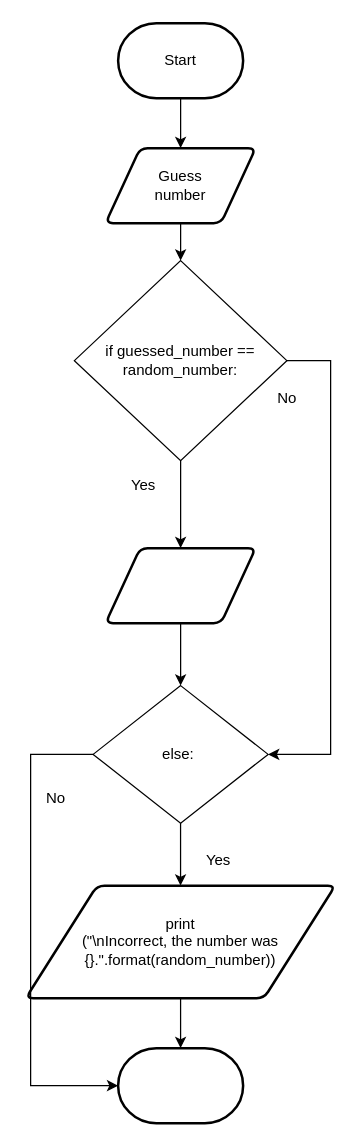
Some shapes in this 363 by 1145 pixel diagram are drawn without their labels. Here are the shapes that lost their labels. From the top down, the centre of each, then its label:
the point at 180,585: print ("\nYou guessed right.")
the point at 180,1085: Stop
